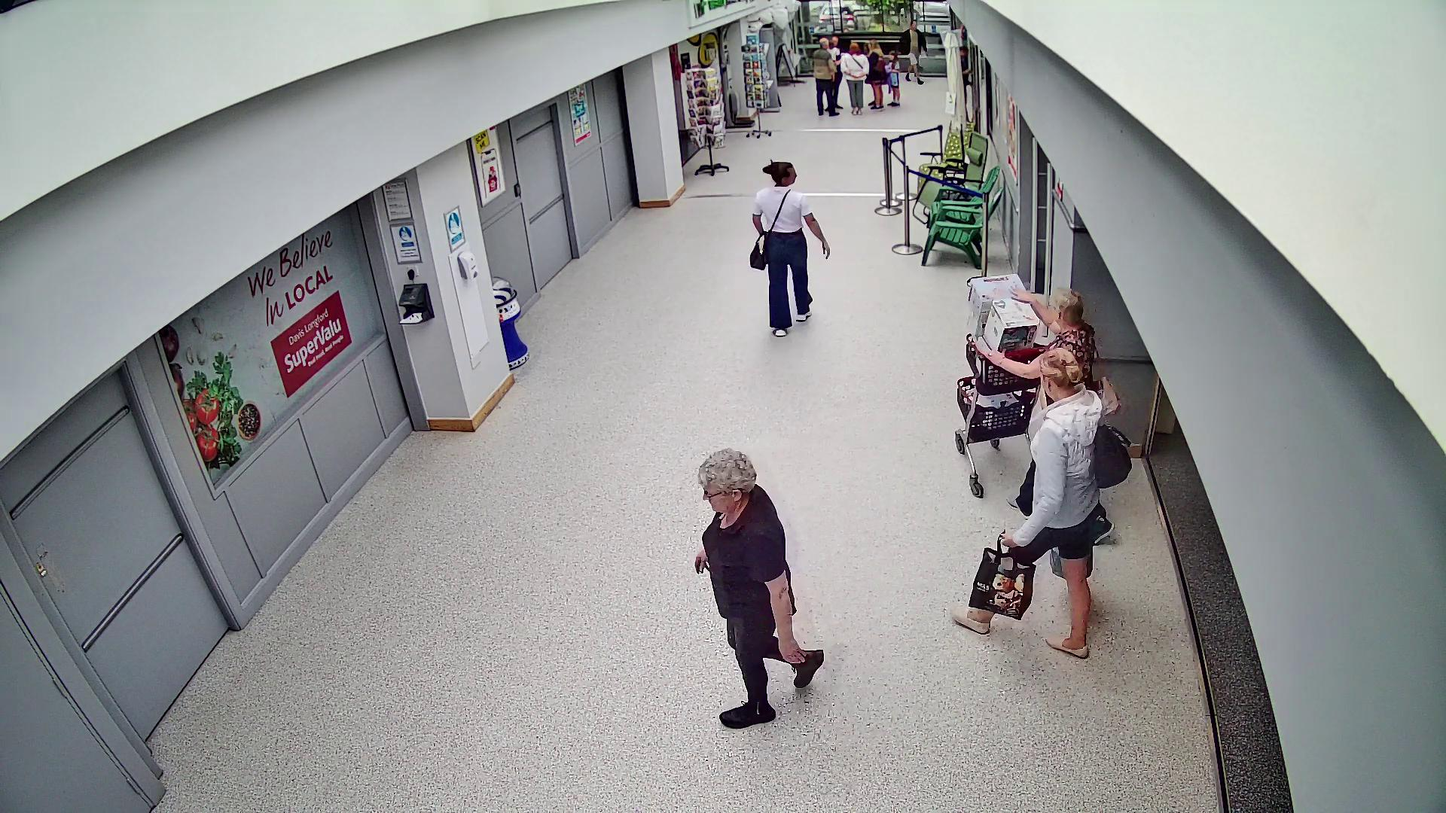backpack-or-handbag: (1093, 423, 1132, 488), (748, 238, 769, 269)
filled-shopping-bags: (970, 548, 1037, 620)
filled-trolly: (953, 274, 1050, 499)
person: (952, 348, 1101, 659), (753, 162, 831, 336), (1006, 287, 1103, 396)
person-with-backpack-handbag: (747, 158, 831, 338)
person-with-backpack-handbag-and-shopping-bag-s-: (952, 349, 1133, 660)
person-with-filled-basket-trolly: (955, 274, 1096, 497)
